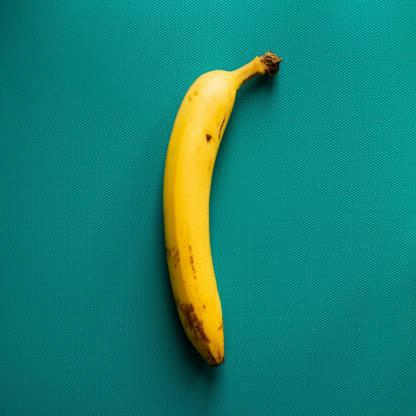banana: (138, 14, 286, 386)
